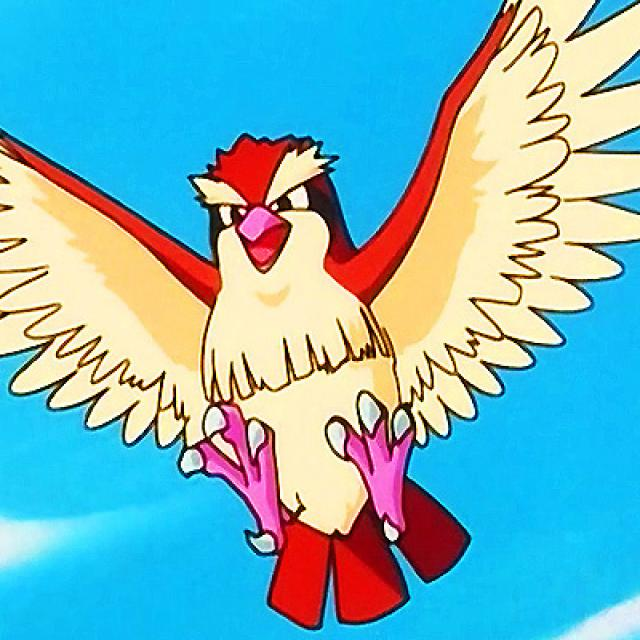Pidgey: (123, 136, 476, 622)
